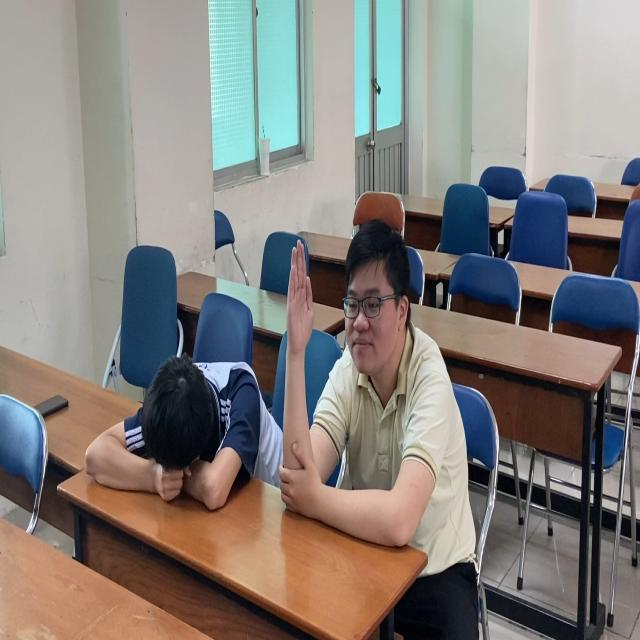raise_hand: (283, 206, 476, 547)
sleep: (90, 313, 272, 506)
